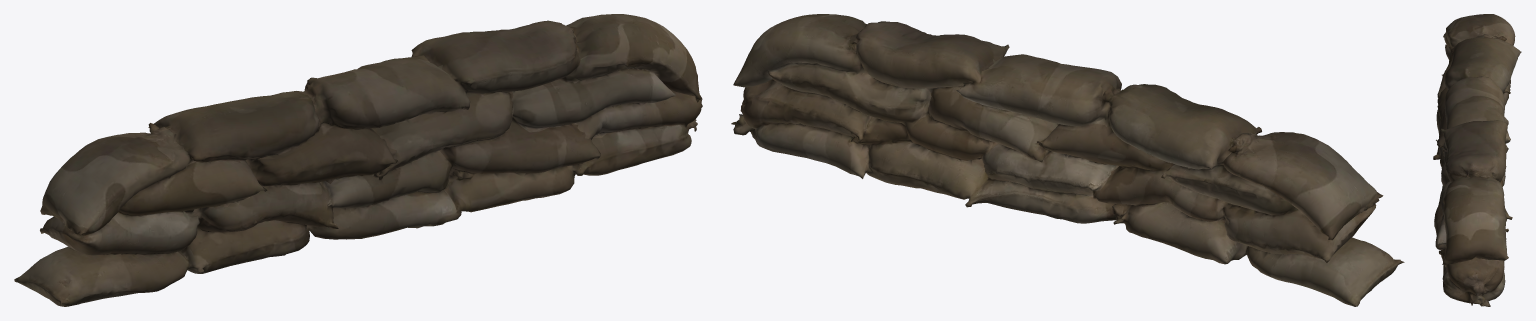
Rendered from sandbag_barrier.glb.
3 renders of one model, left to right at view 1: azimuth 30°, elevation 25°; view 2: azimuth 150°, elevation 25°; view 3: azimuth 270°, elevation 25°, orthographic. The views are drawn at different scales.
Visible parts, largest first — view 1: SM_SBFlat__0; view 2: SM_SBFlat__0; view 3: SM_SBFlat__0.
Boxes of the visible parts, x1=… form: SM_SBFlat__0: x1=14, y1=14, x2=702, y2=306; SM_SBFlat__0: x1=731, y1=14, x2=1404, y2=306; SM_SBFlat__0: x1=1433, y1=14, x2=1521, y2=306.
Bounding box in the file's own units: 4.59 × 1.03 × 0.7389.
1 material, 1 textured.
